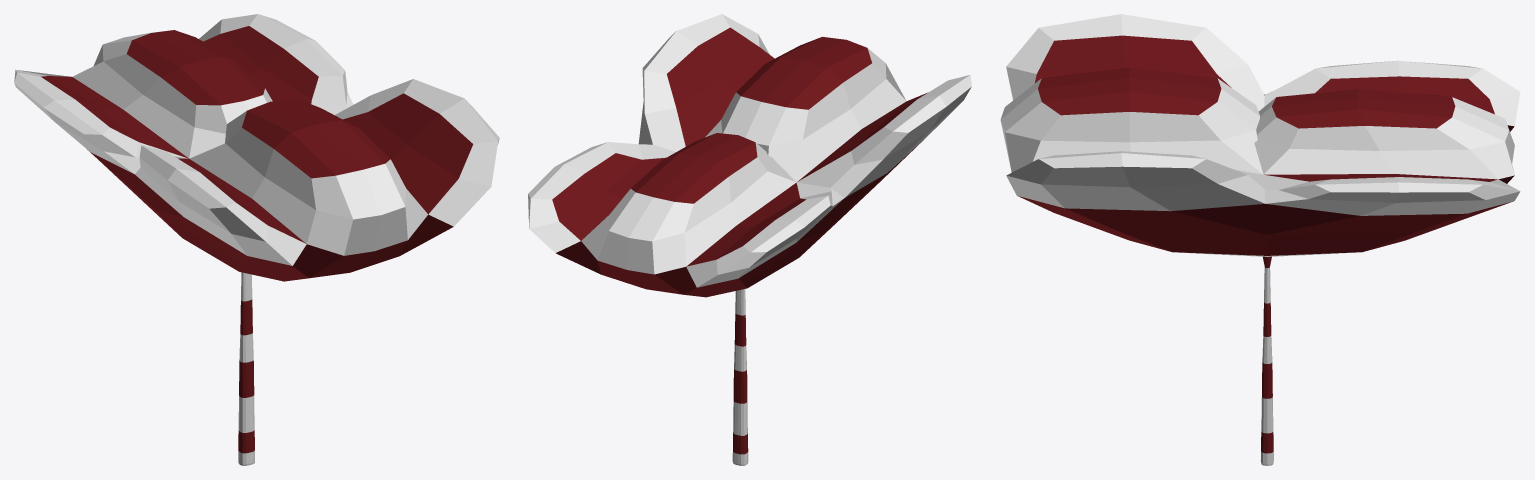
Rendered from evercane.fbx.
3 views of the same model, side by side, from view 1: azimuth 30°, elevation 25°; view 2: azimuth 150°, elevation 25°; view 3: azimuth 270°, elevation 25° (orthographic). The views are drawn at different scales.
Parts seen in each view (by area): view 1: Cube; view 2: Cube; view 3: Cube.
Part boxes in pixels (box(x1,y1,x2,y2)): Cube: box(14, 14, 499, 465); Cube: box(528, 14, 971, 465); Cube: box(1000, 14, 1520, 465).
Bounding box in the file's own units: 5321 × 6511 × 7968.
